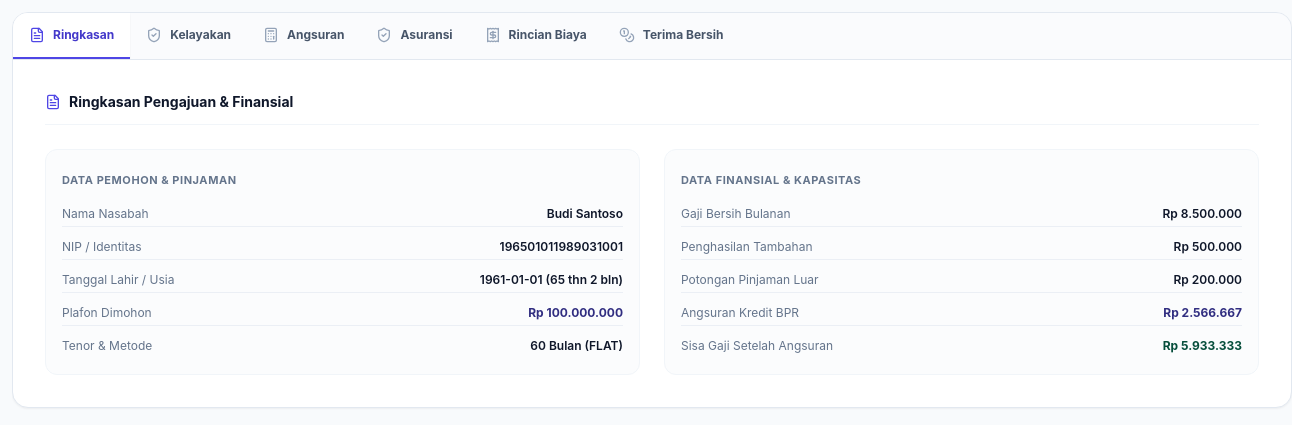
Test: TASK-049: Result Detail Sections & Tab Breakdown Tests › should switch to Kelayakan tab and display DBR and age bounds
Click the button with test id "tab-kelayakan": click(189, 36) [130,13,247,59]
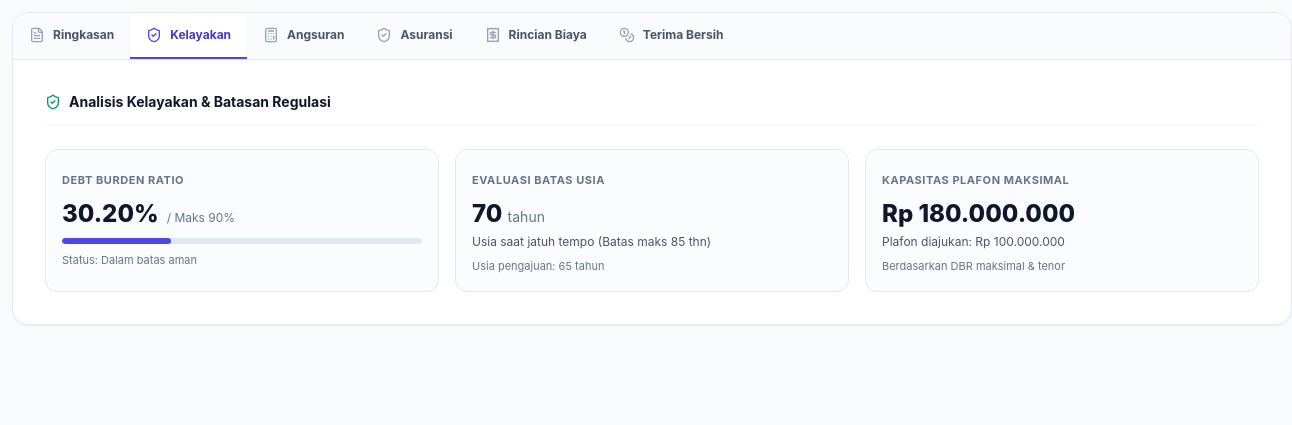
Expected: the element with test id "tab-content-kelayakan" is shown, [45,92,1259,292]
Expected: the text "Debt Burden Ratio" is shown, [62,173,184,187]
Expected: the text "30.20%" is shown, [62,198,159,230]
